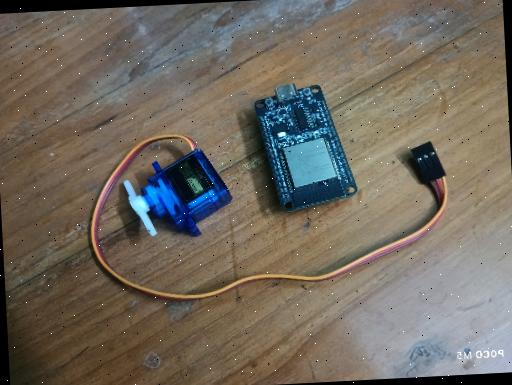Esp32: (252, 78, 358, 214)
Motor: (121, 146, 234, 241)
